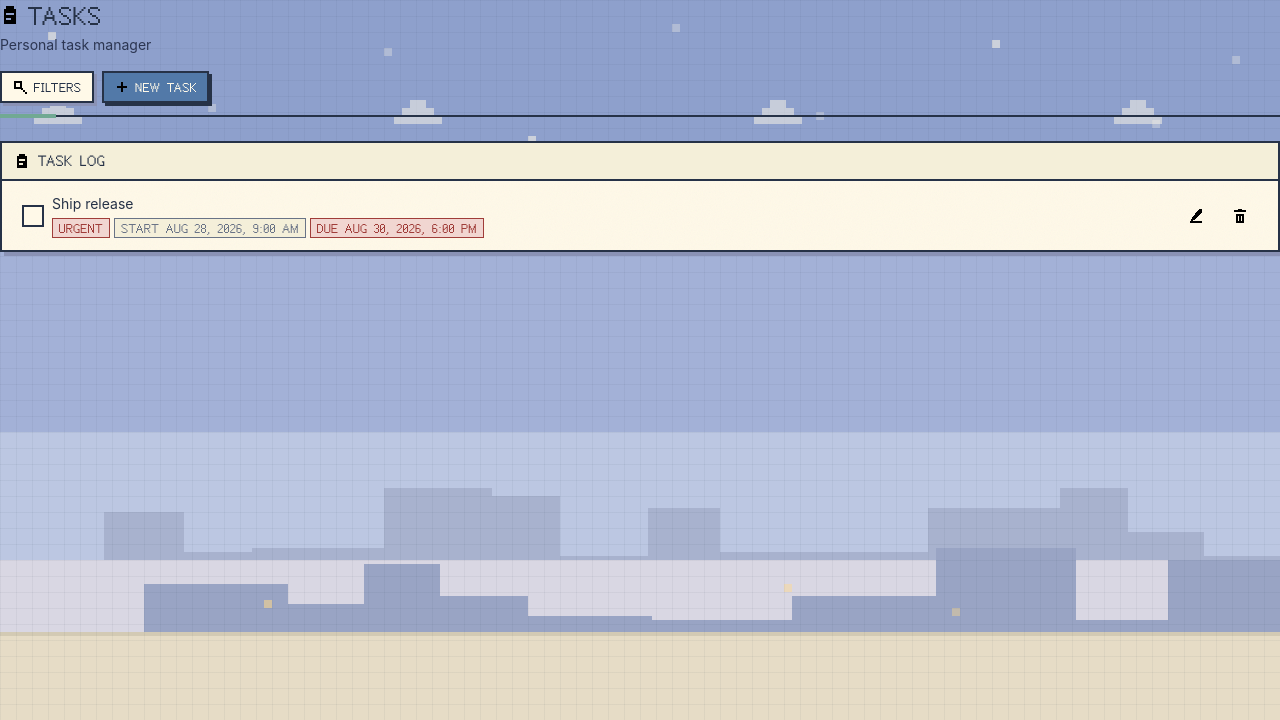
Scenario: TasksPage › asks for confirmation before deleting a task
Expected: the text "Ship release" is shown, [52,195,134,212]
Click the button named "delete task \"ship release\"" at [1240, 216], box [1222,200,1258,232]
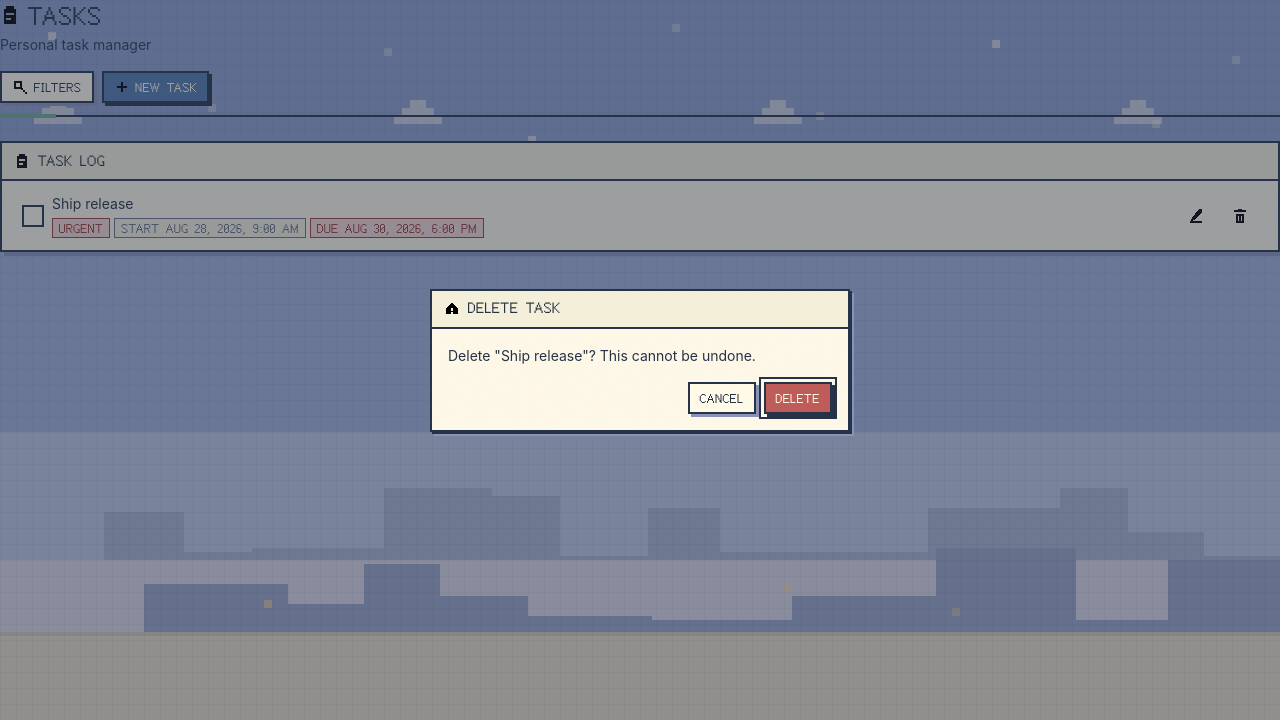
Now the element with test id "confirm-dialog" is shown, box [430,288,850,432]
Now the text "Delete \"Ship release\"? This cannot be undone." is shown, box [448,346,756,364]
